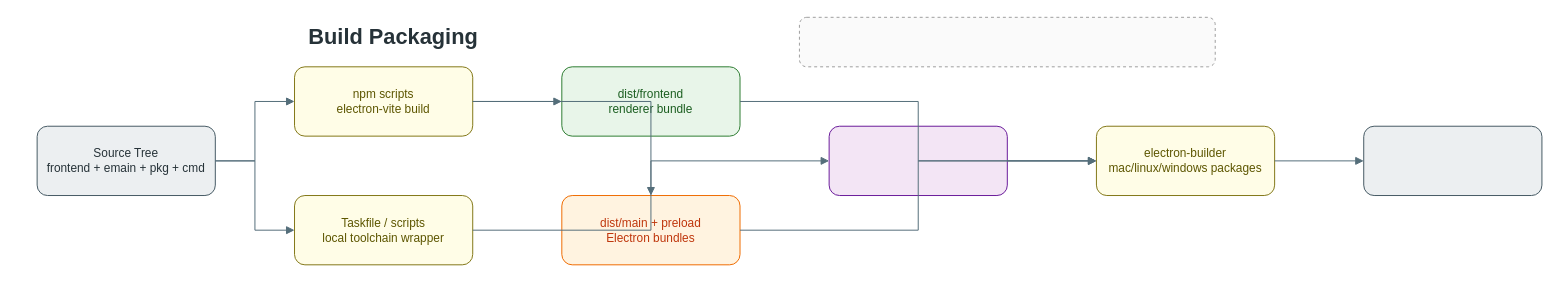
Image size: 1559x282. Some labels were removed from this diagram. Here are the shapes that lost their labels. From the top down, the box of each, then its label:
(798, 16, 1215, 67): Frontend, Electron, Go helpers, assets, and packaging steps.
(828, 125, 1007, 196): dist/bin wavesrv + wsh helpers
(1363, 125, 1542, 196): Release Artifacts app bundle, archives, checksums
